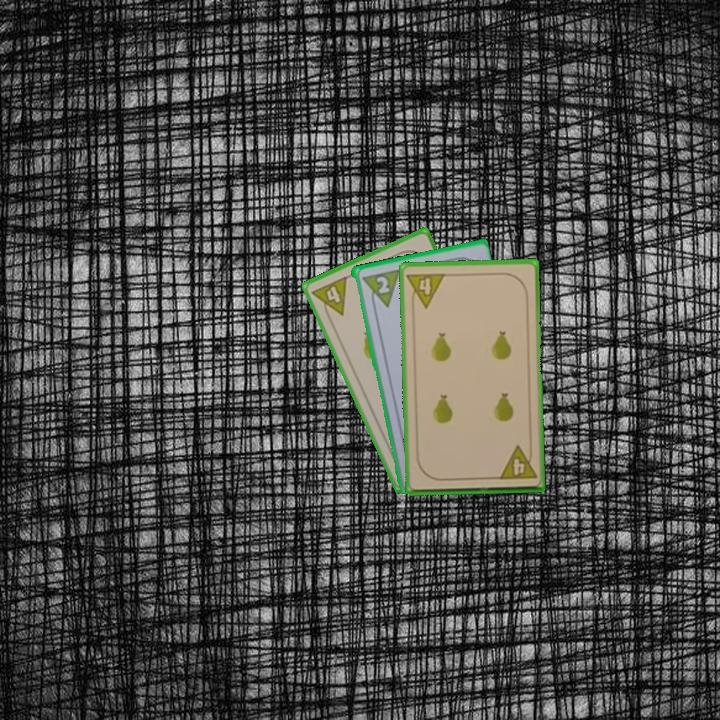2p: (372, 272, 392, 296)
4p: (308, 272, 350, 324), (403, 269, 448, 311), (495, 442, 539, 482)
